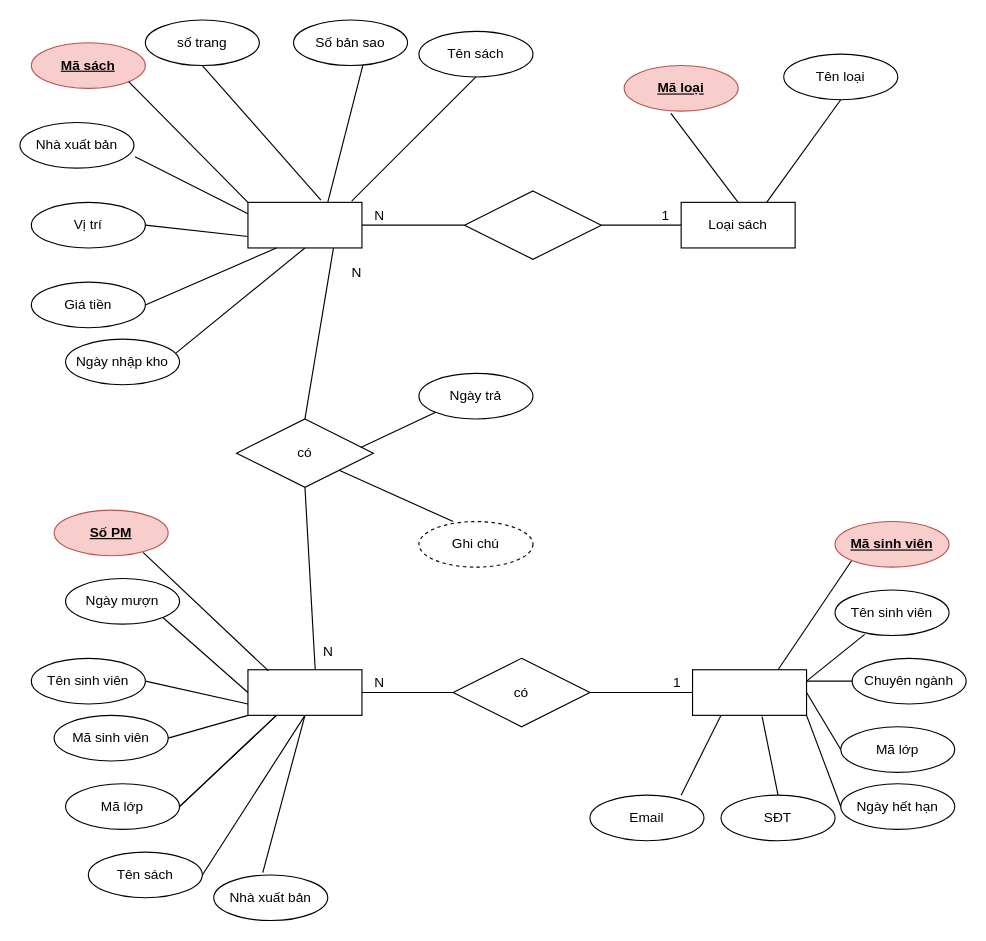
Image size: 986x941. Some labels were removed from this diagram. Here are the shapes that lost their labels. From the top down, the centre of each, then its label:
point (304, 224): Sách
point (532, 224): Thuộc
point (304, 692): Phiếu mượn
point (749, 692): Sinh viên
